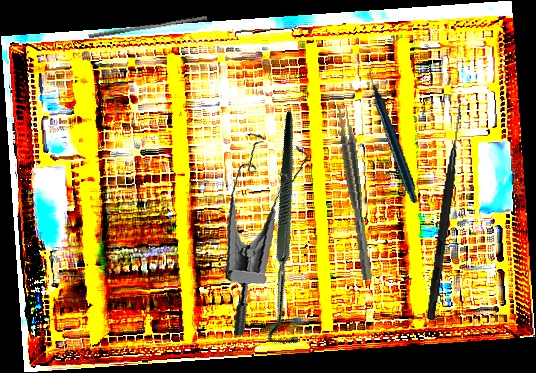Handpiece: (335, 64, 453, 204)
Hook Surgical: (181, 109, 399, 355), (426, 106, 464, 321)
Pusher: (88, 11, 208, 44)
Speculum: (208, 126, 329, 337)
Tissue Forceps: (335, 104, 373, 281)
